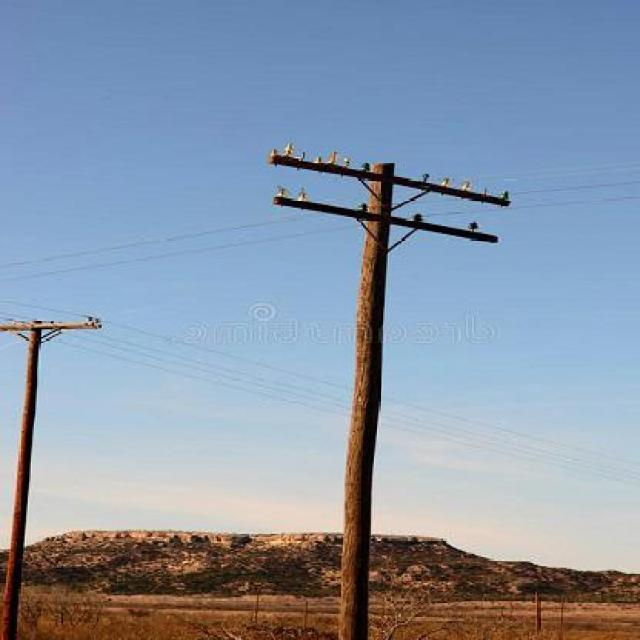light_pole: (250, 142, 518, 290), (2, 304, 106, 402)
